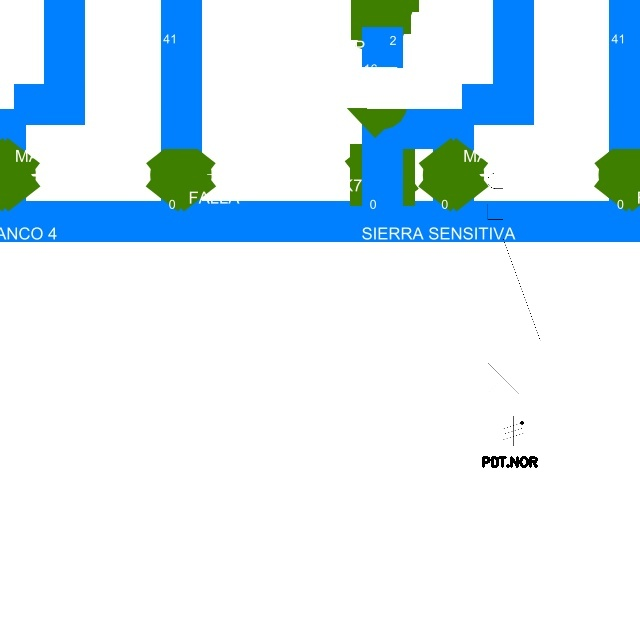interruptor_termomagnetico: (481, 147, 546, 416)
